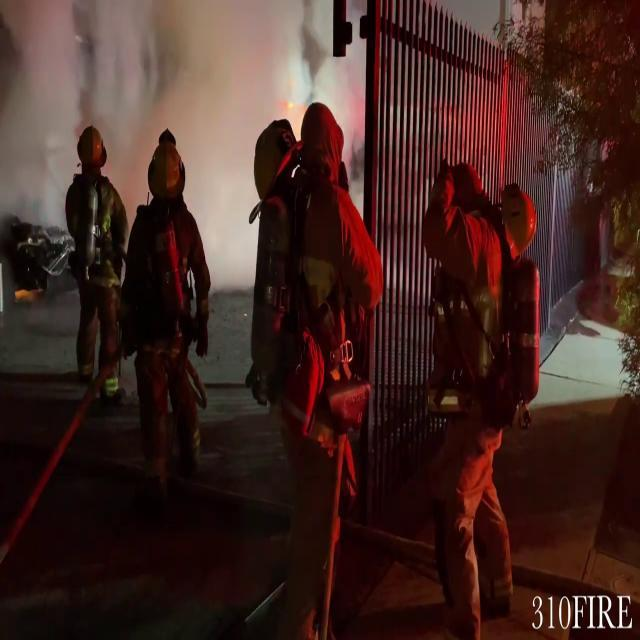Smoke: (0, 0, 284, 224)
